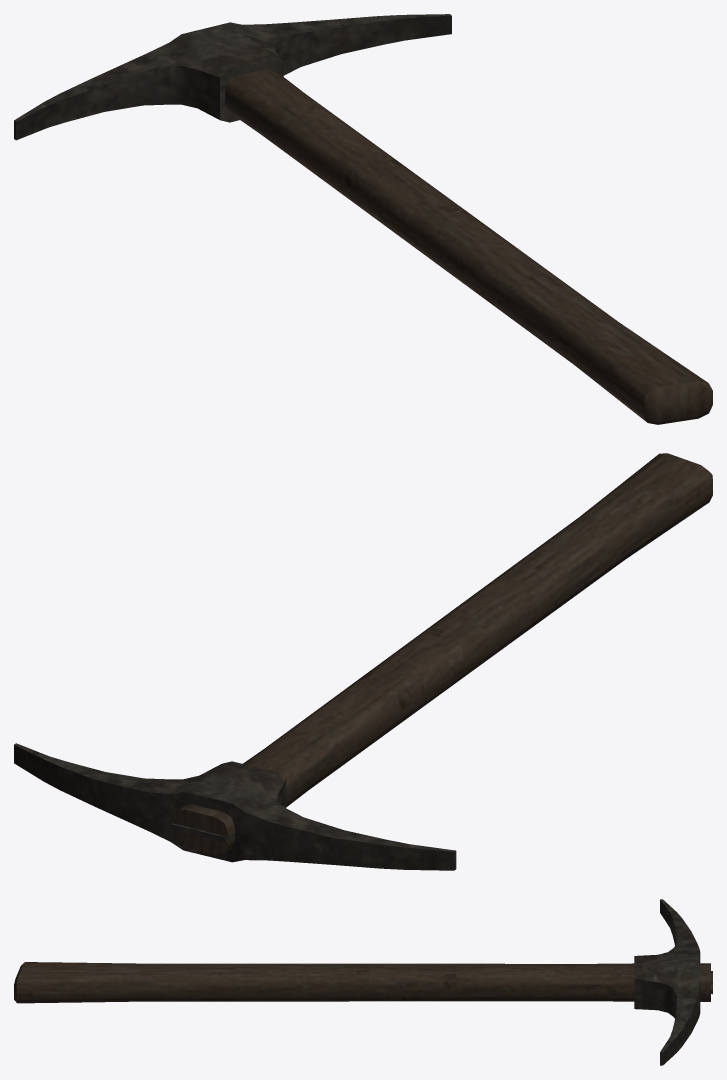
Rendered from pick_axe_mx_1.obj.
3 renders of one model, top to bottom at view 1: azimuth 30°, elevation 25°; view 2: azimuth 150°, elevation 25°; view 3: azimuth 270°, elevation 25°, orthographic. The views are drawn at different scales.
Parts seen in each view (by area): view 1: pick_axe_mx_1; view 2: pick_axe_mx_1; view 3: pick_axe_mx_1.
Part boxes in pixels (x1,y1,x2,y2): pick_axe_mx_1: [14, 14, 712, 424]; pick_axe_mx_1: [14, 453, 712, 870]; pick_axe_mx_1: [14, 899, 712, 1065].
Bounding box in the file's own units: 0.4389 × 0.056 × 0.8474.
